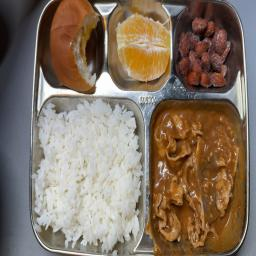100_beef: (151, 105, 243, 251)
100_nuts: (175, 9, 234, 90)
100_orange: (111, 6, 172, 84)
100_rice: (36, 98, 143, 250)
50_bread: (43, 2, 106, 96)
